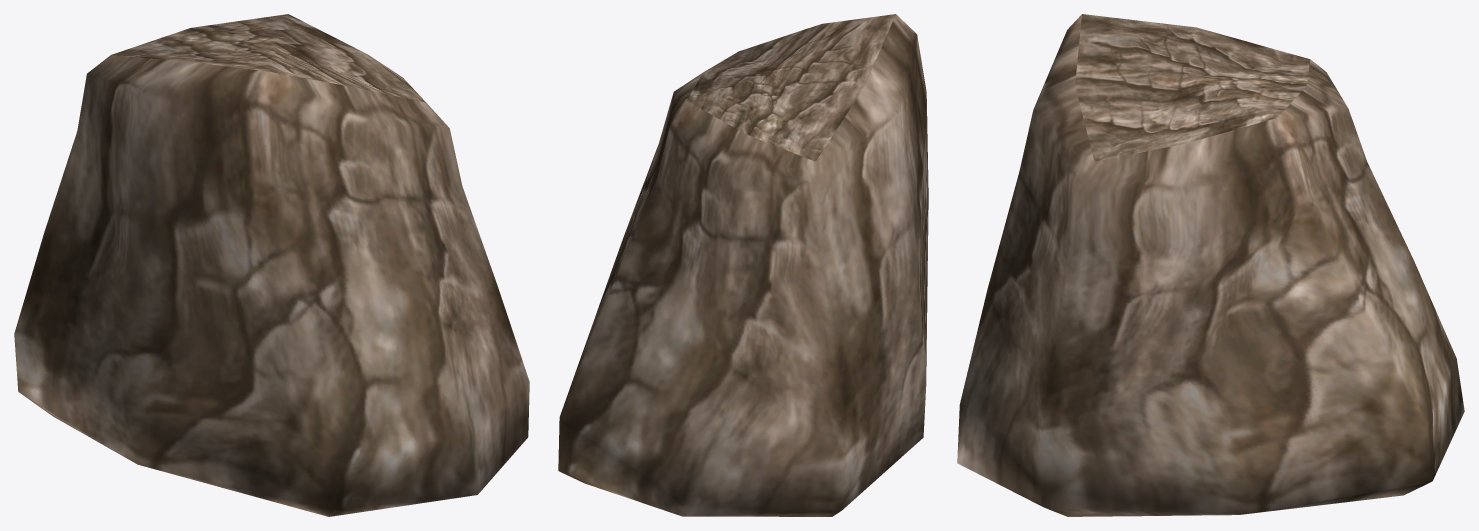
The model's file is INST_EKH_ROCKENTB.fbx.
The picture shows the model from 3 angles, left to right: view 1: azimuth 30°, elevation 25°; view 2: azimuth 150°, elevation 25°; view 3: azimuth 270°, elevation 25°; orthographic projection. The views are drawn at different scales.
Visible parts, largest first — view 1: INST_EKH_ROCKENTB; view 2: INST_EKH_ROCKENTB; view 3: INST_EKH_ROCKENTB.
Boxes of the visible parts, x1,y1,x2,y2 form: INST_EKH_ROCKENTB: (14, 14, 529, 516); INST_EKH_ROCKENTB: (558, 14, 928, 516); INST_EKH_ROCKENTB: (957, 14, 1464, 516).
Bounding box in the file's own units: 18523 × 22195 × 24663.
1 material, 1 textured.
